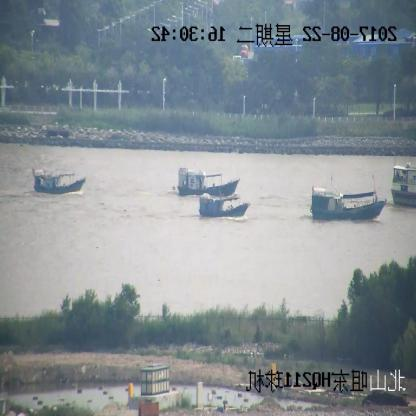Fishing Boat: (310, 178, 387, 224), (177, 168, 240, 198), (33, 169, 85, 192), (390, 163, 415, 207), (199, 195, 248, 216)
